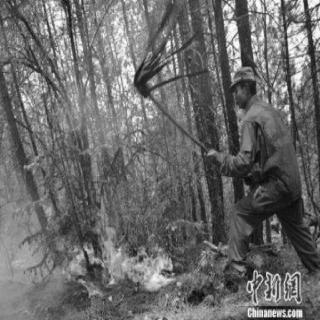Fire: (53, 211, 179, 299)
